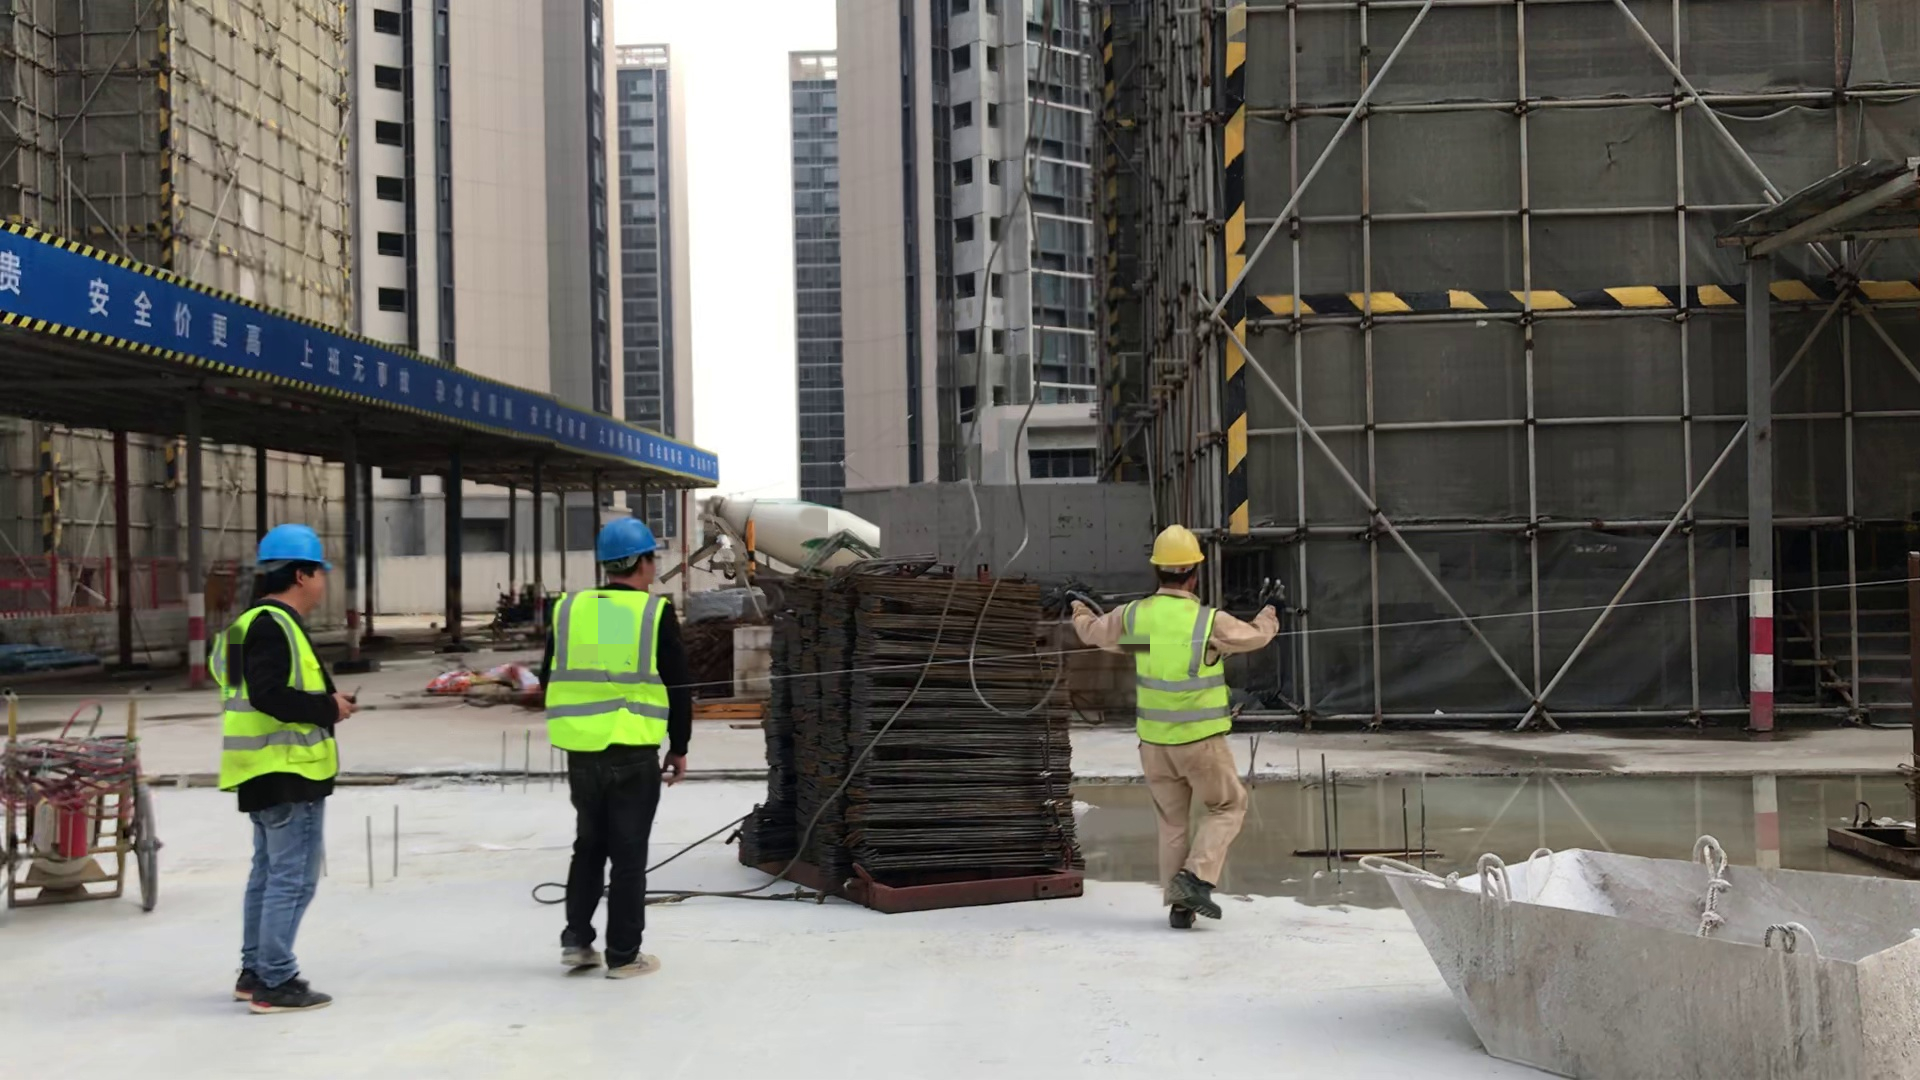handcart: (1, 676, 158, 901)
helmet: (253, 524, 333, 573), (595, 519, 661, 565), (1149, 526, 1203, 567)
hopper: (1385, 842, 1918, 1080)
person: (211, 522, 352, 1014), (550, 519, 694, 987), (1105, 529, 1247, 933)
slogan: (4, 250, 719, 481)
vest: (211, 615, 335, 799), (546, 593, 666, 758), (1123, 595, 1233, 745)
